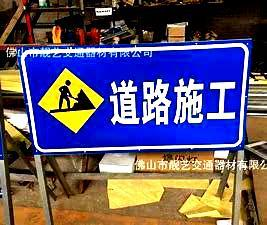sign: (22, 40, 248, 156)
